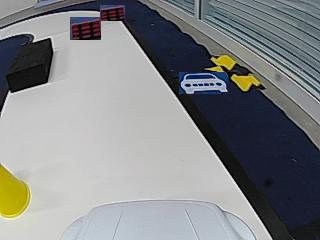block: (5, 38, 53, 92)
cone: (0, 163, 31, 218)
